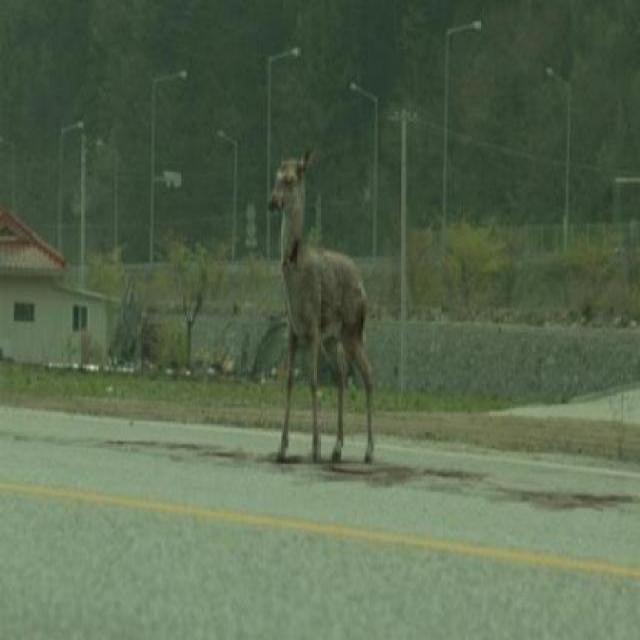deer: (264, 143, 370, 472)
